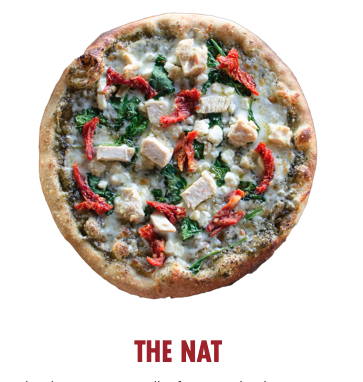sandwich: (37, 12, 318, 301)
